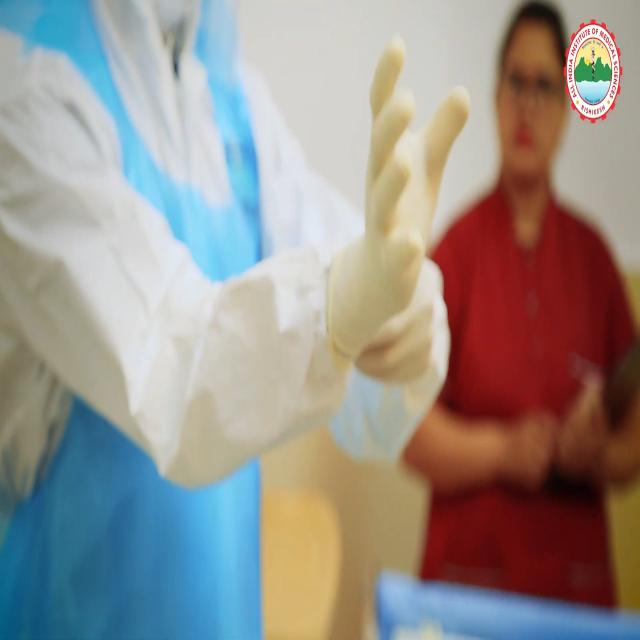Gloves: (317, 44, 477, 344)
